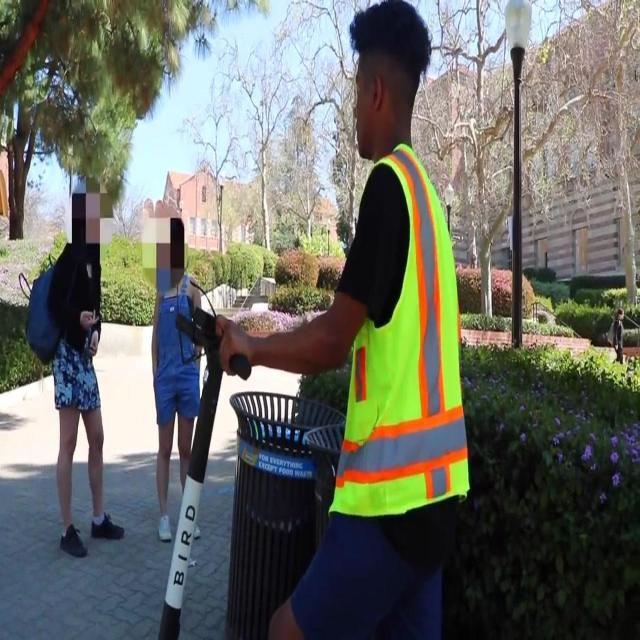Vest: (327, 141, 469, 521)
